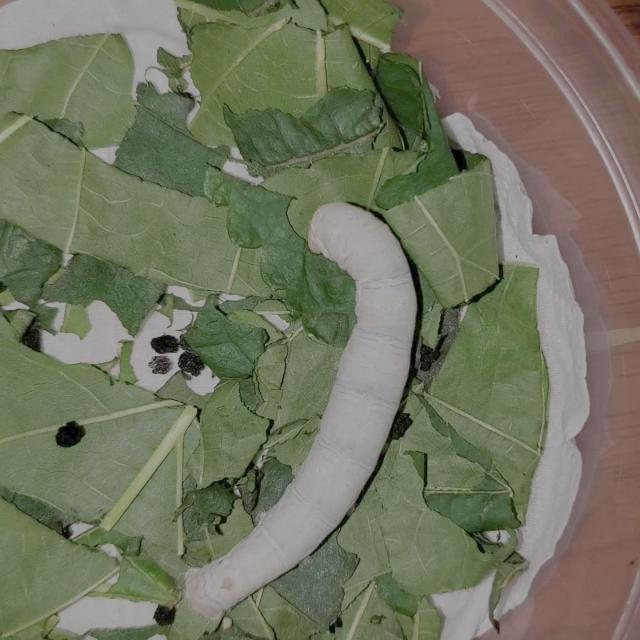Healthy: (170, 185, 426, 618)
